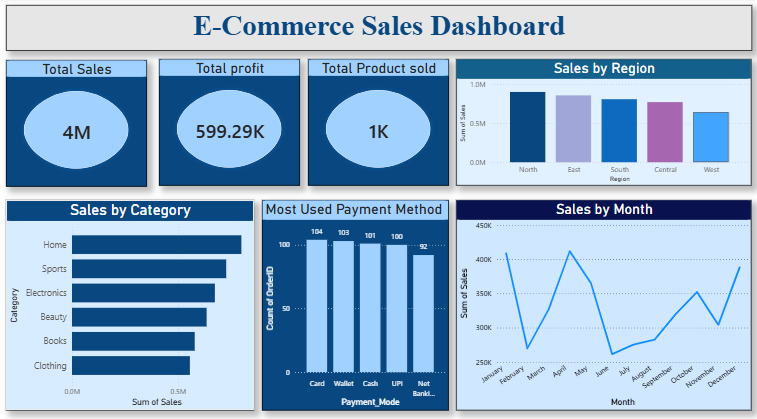

Layout of this report page (visuals, bound fields, positions):
{"tool":"powerbi","page":{"name":"Page 1","canvas":[1280,720],"ordinal":0},"visuals":[{"type":"cardVisual","title":"Total Sales","fields":{"Data":["Ecommerce_Data.Total Sales"]},"box":[13.4,104.1,236.9,213.3],"z":0},{"type":"cardVisual","title":"Total profit","fields":{"Data":["Sum(Ecommerce_Data.Profit)"]},"box":[270.4,103.3,236.9,213.3],"z":1000},{"type":"cardVisual","title":"Total Product sold","fields":{"Data":["Sum(Ecommerce_Data.Quantity)"]},"box":[520.7,103.3,236.9,213.3],"z":2000},{"type":"clusteredBarChart","title":"Sales by Category","fields":{"Category":["Ecommerce_Data.Category"],"Y":["Sum(Ecommerce_Data.Sales)"]},"box":[13.4,339.3,416.6,354.4],"z":3000},{"type":"columnChart","title":"Most Used Payment Method","fields":{"Category":["Ecommerce_Data.Payment_Mode"],"Y":["CountNonNull(Ecommerce_Data.OrderID)"]},"box":[443.5,339.3,314.1,354.4],"z":4000},{"type":"columnChart","title":"Sales by Region","fields":{"Category":["Ecommerce_Data.Region"],"Y":["Sum(Ecommerce_Data.Sales)"]},"box":[771,103.3,497.2,213.3],"z":5000},{"type":"lineChart","title":" Sales by Month","fields":{"Category":["Ecommerce_Data.Order_Date.Variation.Date Hierarchy.Month"],"Y":["Sum(Ecommerce_Data.Sales)"]},"box":[771,339.3,497.2,354.4],"z":6000},{"type":"textbox","box":[13.4,11.8,1254.8,77.3],"z":7000}]}

Visuals, with their boxes in screenshot pixels (x1, y1, x2, y2), scaled from the page's 1280x720 canvas onto the 757x419 screenshot:
"Total Sales" cardVisual: 8, 61, 148, 185
"Total profit" cardVisual: 160, 60, 300, 184
"Total Product sold" cardVisual: 308, 60, 448, 184
"Sales by Category" clusteredBarChart: 8, 197, 254, 404
"Most Used Payment Method" columnChart: 262, 197, 448, 404
"Sales by Region" columnChart: 456, 60, 750, 184
" Sales by Month" lineChart: 456, 197, 750, 404
textbox: 8, 7, 750, 52
